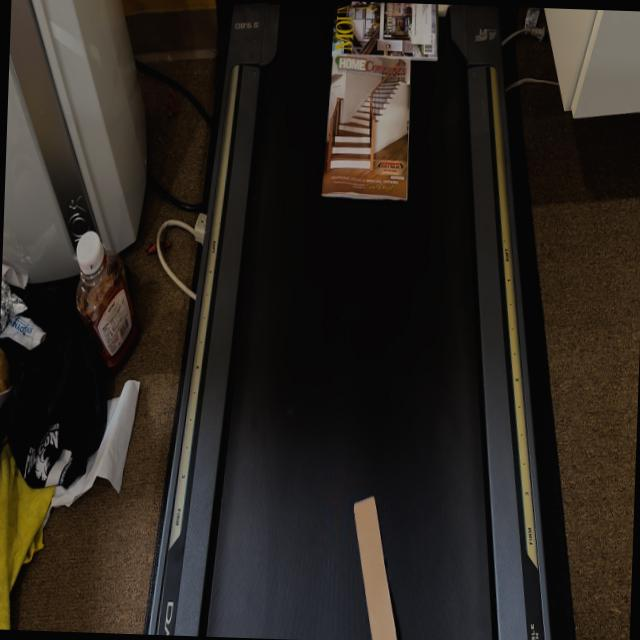Recycle: (321, 47, 414, 199), (347, 493, 403, 640), (334, 1, 441, 62)
